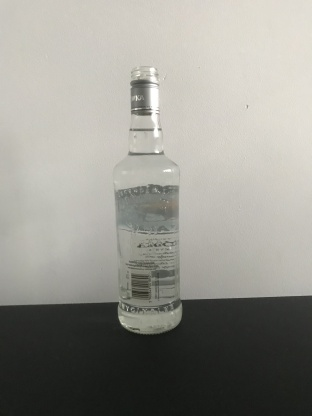nakretka: (128, 64, 161, 116)
